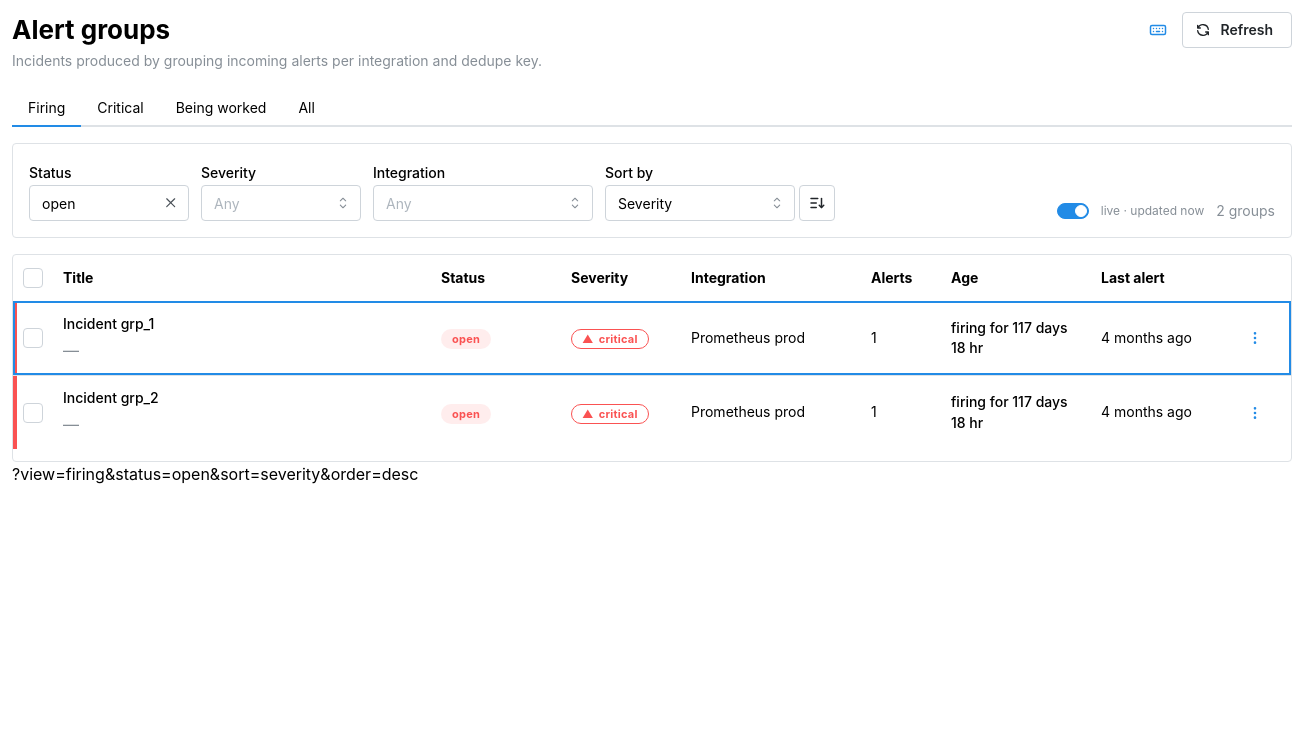
Scenario: AlertGroupsPage › clears the selection after a bulk action so the next one cannot reuse it
The image size is (1304, 732).
Check: the link "Incident grp_1" is shown, box [63,315,154,332]
Click the checkbox named "Select all": (33, 278) [23,268,43,288]
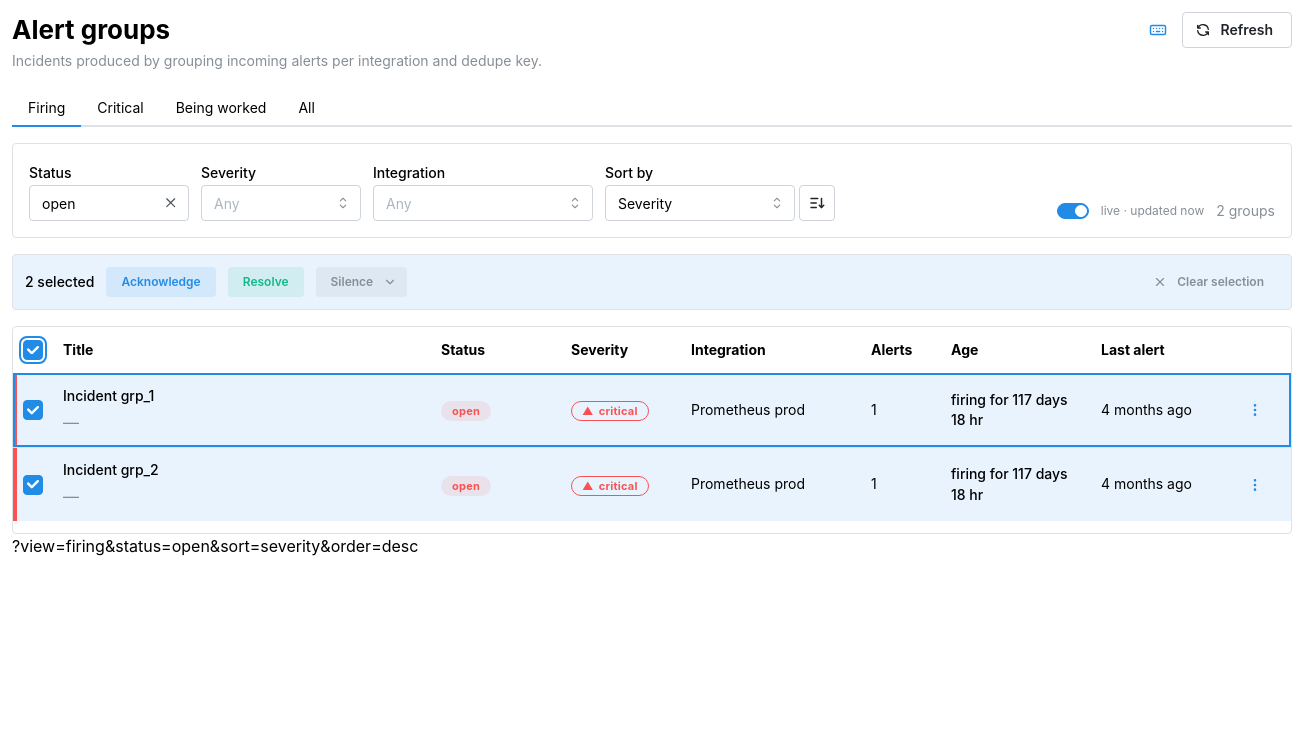
Check: the text "2 selected" is shown, box [25,272,94,292]
Click the button "Acknowledge": (161, 282) [106,267,216,297]
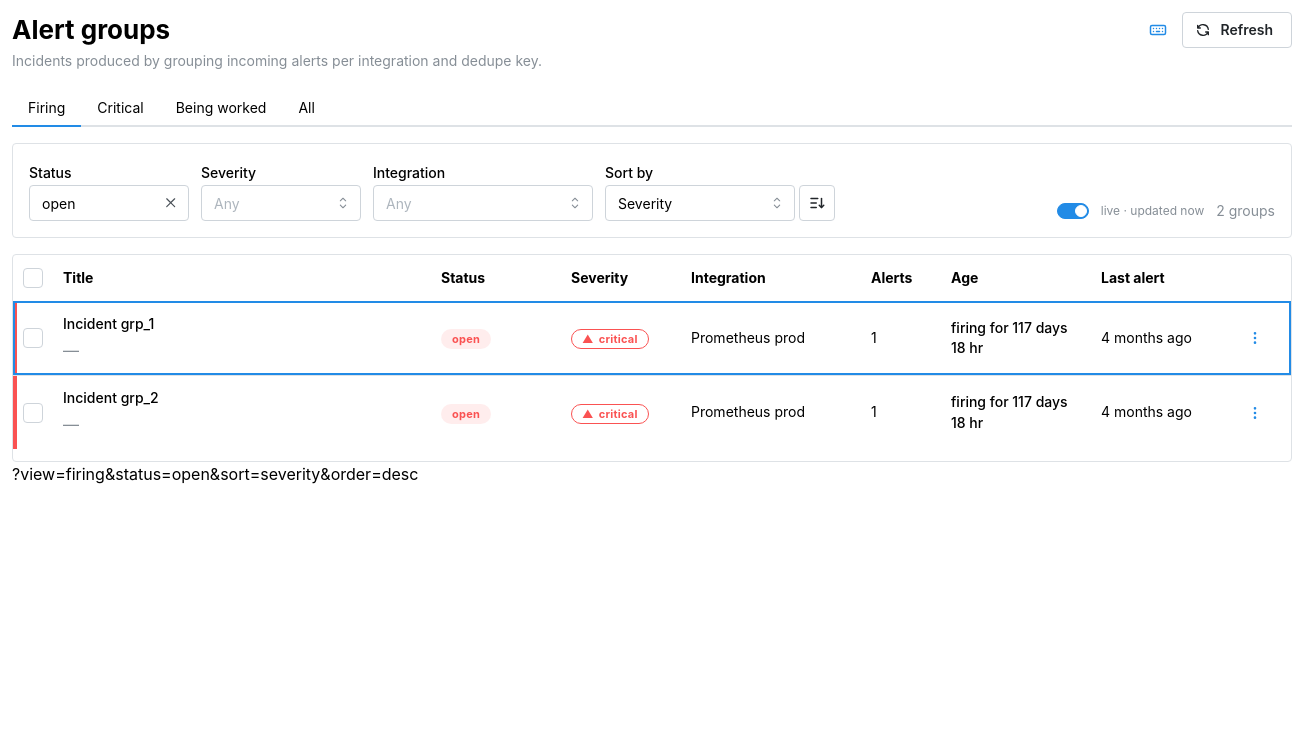
Check: the text "2 selected" is gone
Check: the button "Resolve" is gone
